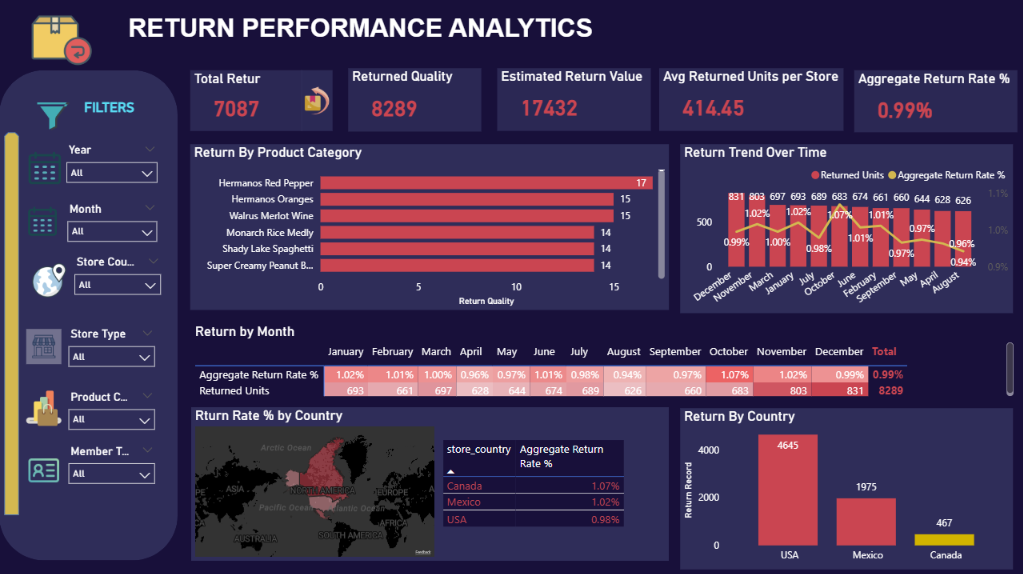

The page's visual inventory and layout, read from the dashboard file:
{"tool":"powerbi","page":{"name":"Returns Analytics","canvas":[1280,720],"ordinal":4},"visuals":[{"type":"textbox","title":"Re","box":[156.6,13.6,1109.8,74.9],"z":0},{"type":"cardVisual","title":"Returned Quality","fields":{"Data":["Measure_Table.Returned Quantity"]},"box":[436.7,86.4,166.3,79.4],"z":0,"group":"g6"},{"type":"cardVisual","title":"Estimated Return Value","fields":{"Data":["Measure_Table.Estimated Return Value"]},"box":[622,87,192.1,78.4],"z":0,"group":"g3"},{"type":"cardVisual","title":"Avg Returned Units per Store","fields":{"Data":["Measure_Table.Avg Returned Units per Store"]},"box":[825.1,87,230.5,78.4],"z":0,"group":"g1"},{"type":"cardVisual","title":"Aggregate Return Rate %","fields":{"Data":["Measure_Table.Aggregate Return Rate %"]},"box":[1069.2,88.6,204.3,77.4],"z":0,"group":"g9"},{"type":"cardVisual","title":"Total Retur","fields":{"Data":["Measure_Table.Return Records"]},"box":[238.8,89.1,140,75.8],"z":0,"group":"g11"},{"type":"shape","box":[6.8,166.2,18.6,478.9],"z":0,"group":"g7"},{"type":"slicer","fields":{"Values":["dim_date.year"]},"box":[74.6,174.5,133.8,72.6],"z":0,"group":"g2"},{"type":"slicer","fields":{"Values":["dim_date.month_name"]},"box":[75.1,248.5,132.5,57.9],"z":0,"group":"g12"},{"type":"slicer","fields":{"Values":["dim_store.store_country"]},"box":[85.3,313.8,128,72.6],"z":0,"group":"g4"},{"type":"slicer","fields":{"Values":["dim_store.store_type"]},"box":[76.5,405.2,128,57.4],"z":0,"group":"g5"},{"type":"slicer","fields":{"Values":["dim_product.product_name"]},"box":[76.5,483.5,128.1,55.1],"z":0,"group":"g13"},{"type":"azureMap","title":"Rturn Rate % by Country","fields":{"Category":["dim_store.store_country"]},"box":[240.1,510.5,309.4,192.1],"z":0,"group":"g14"},{"type":"slicer","fields":{"Values":["dim_customer.member_card"]},"box":[76.6,550.7,128.4,72.1],"z":0,"group":"g10"},{"type":"image","box":[23.8,13.6,108.9,74.9],"z":1000},{"type":"group","id":"g1","title":"Group 2","box":[825.1,87,230.5,78.4],"z":1000,"group":"g8"},{"type":"image","box":[377.6,89.1,39,76.2],"z":1000,"group":"g11"},{"type":"group","id":"g2","title":"Group 1","box":[34.6,174.5,174.7,71.2],"z":1000,"group":"g7"},{"type":"image","box":[34.6,174.6,46.7,72.3],"z":1000,"group":"g2"},{"type":"image","box":[34,248.5,41.1,57.9],"z":1000,"group":"g12"},{"type":"image","box":[41.2,314.3,45.2,72.6],"z":1000,"group":"g4"},{"type":"image","box":[34,405.1,44.3,57.9],"z":1000,"group":"g5"},{"type":"image","box":[34,483.4,44.3,55.6],"z":1000,"group":"g13"},{"type":"tableEx","title":"Return By Product Category","fields":{"Values":["dim_store.store_country","Measure_Table.Aggregate Return Rate %"]},"box":[548.5,546.1,288.5,151.4],"z":1000,"group":"g14"},{"type":"image","box":[34,550.5,44.4,72.6],"z":1000,"group":"g10"},{"type":"shape","box":[0,88.5,223,612.8],"z":2000},{"type":"group","id":"g3","title":"Group 3","box":[622,87,192.1,78.4],"z":3000,"group":"g8"},{"type":"group","id":"g4","title":"Group 1","box":[41.2,313.8,173.6,73.2],"z":3000,"group":"g7"},{"type":"group","id":"g5","title":"Group 1","box":[34,405.1,170.2,59.6],"z":3000},{"type":"group","id":"g6","title":"Group 4","box":[436.7,86.4,166,79.4],"z":4000,"group":"g8"},{"type":"group","id":"g7","title":"Group 7","box":[6.8,110.6,208,534.5],"z":4000},{"type":"group","id":"g8","title":"Group 1","box":[238.8,86.4,1034.7,79.6],"z":5000},{"type":"group","id":"g9","title":"Group 5","box":[1069.2,88.6,204.3,77.4],"z":5000,"group":"g8"},{"type":"group","id":"g10","title":"Group 1","box":[34,550.5,170.4,71.2],"z":5000,"group":"g7"},{"type":"group","id":"g11","title":"Group 6","box":[238.8,89.1,177.8,76.2],"z":6000,"group":"g8"},{"type":"textbox","box":[101.3,119.5,95.8,44.7],"z":6000,"group":"g7"},{"type":"group","id":"g12","title":"Group 1","box":[34,248.5,175.3,57.9],"z":6000},{"type":"image","box":[48.4,110.6,40,69.8],"z":7000,"group":"g7"},{"type":"group","id":"g13","title":"Group 1","box":[34,483.4,170.2,54.5],"z":7000},{"type":"barChart","title":"Return By Product Category","fields":{"Category":["dim_product.product_name"],"Y":["Measure_Table.Returned Quantity"]},"box":[238.8,181.1,598.3,207.2],"z":8000},{"type":"lineClusteredColumnComboChart","title":"Return Trend Over Time","fields":{"Category":["dim_date.month_name"],"Y":["Measure_Table.Returned Units"],"Y2":["Measure_Table.Aggregate Return Rate %"]},"box":[850.8,181.1,415.8,211.3],"z":9000},{"type":"group","id":"g14","title":"Group 8","box":[240.1,510.5,596.9,192.1],"z":10000},{"type":"pivotTable","title":"Return by Month","fields":{"Values":["Measure_Table.Aggregate Return Rate %","Measure_Table.Returned Units"],"Columns":["dim_date.month_name"]},"box":[240.1,404.8,1033.3,96.1],"z":11000},{"type":"columnChart","title":"Return By Country","fields":{"Category":["dim_store.store_country"],"Y":["Measure_Table.Return Records"]},"box":[850.8,511.8,415.8,201.7],"z":12000}]}

Visuals, with their boxes in screenshot pixels (x1, y1, x2, y2), scaled from the page's 1280x720 canvas onto the 1023x574 screenshot:
"Re" textbox: <bbox>125, 11, 1012, 71</bbox>
"Returned Quality" cardVisual: <bbox>349, 69, 482, 132</bbox>
"Estimated Return Value" cardVisual: <bbox>497, 69, 651, 132</bbox>
"Avg Returned Units per Store" cardVisual: <bbox>659, 69, 844, 132</bbox>
"Aggregate Return Rate %" cardVisual: <bbox>855, 71, 1018, 132</bbox>
"Total Retur" cardVisual: <bbox>191, 71, 303, 131</bbox>
shape: <bbox>5, 132, 20, 514</bbox>
slicer - dim_date.year: <bbox>60, 139, 167, 197</bbox>
slicer - dim_date.month_name: <bbox>60, 198, 166, 244</bbox>
slicer - dim_store.store_country: <bbox>68, 250, 170, 308</bbox>
slicer - dim_store.store_type: <bbox>61, 323, 163, 369</bbox>
slicer - dim_product.product_name: <bbox>61, 385, 164, 429</bbox>
"Rturn Rate % by Country" azureMap: <bbox>192, 407, 439, 560</bbox>
slicer - dim_customer.member_card: <bbox>61, 439, 164, 497</bbox>
image: <bbox>19, 11, 106, 71</bbox>
"Group 2" group: <bbox>659, 69, 844, 132</bbox>
image: <bbox>302, 71, 333, 132</bbox>
"Group 1" group: <bbox>28, 139, 167, 196</bbox>
image: <bbox>28, 139, 65, 197</bbox>
image: <bbox>27, 198, 60, 244</bbox>
image: <bbox>33, 251, 69, 308</bbox>
image: <bbox>27, 323, 63, 369</bbox>
image: <bbox>27, 385, 63, 430</bbox>
"Return By Product Category" tableEx: <bbox>438, 435, 669, 556</bbox>
image: <bbox>27, 439, 63, 497</bbox>
shape: <bbox>0, 71, 178, 559</bbox>
"Group 3" group: <bbox>497, 69, 651, 132</bbox>
"Group 1" group: <bbox>33, 250, 172, 309</bbox>
"Group 1" group: <bbox>27, 323, 163, 370</bbox>
"Group 4" group: <bbox>349, 69, 482, 132</bbox>
"Group 7" group: <bbox>5, 88, 172, 514</bbox>
"Group 1" group: <bbox>191, 69, 1018, 132</bbox>
"Group 5" group: <bbox>855, 71, 1018, 132</bbox>
"Group 1" group: <bbox>27, 439, 163, 496</bbox>
"Group 6" group: <bbox>191, 71, 333, 132</bbox>
textbox: <bbox>81, 95, 158, 131</bbox>
"Group 1" group: <bbox>27, 198, 167, 244</bbox>
image: <bbox>39, 88, 71, 144</bbox>
"Group 1" group: <bbox>27, 385, 163, 429</bbox>
"Return By Product Category" barChart: <bbox>191, 144, 669, 310</bbox>
"Return Trend Over Time" lineClusteredColumnComboChart: <bbox>680, 144, 1012, 313</bbox>
"Group 8" group: <bbox>192, 407, 669, 560</bbox>
"Return by Month" pivotTable: <bbox>192, 323, 1018, 399</bbox>
"Return By Country" columnChart: <bbox>680, 408, 1012, 569</bbox>
